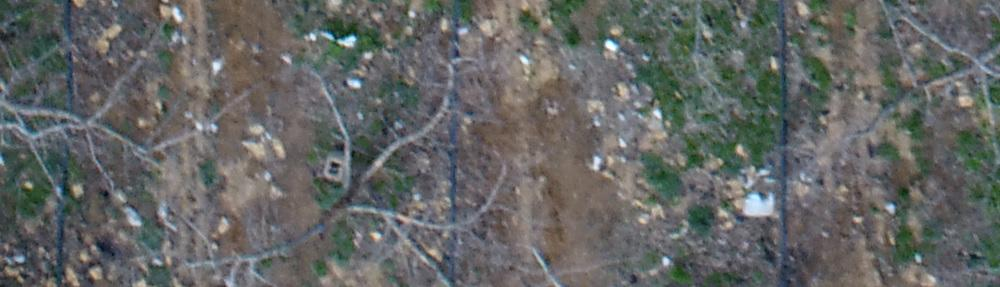apple: (182, 41, 519, 277)
